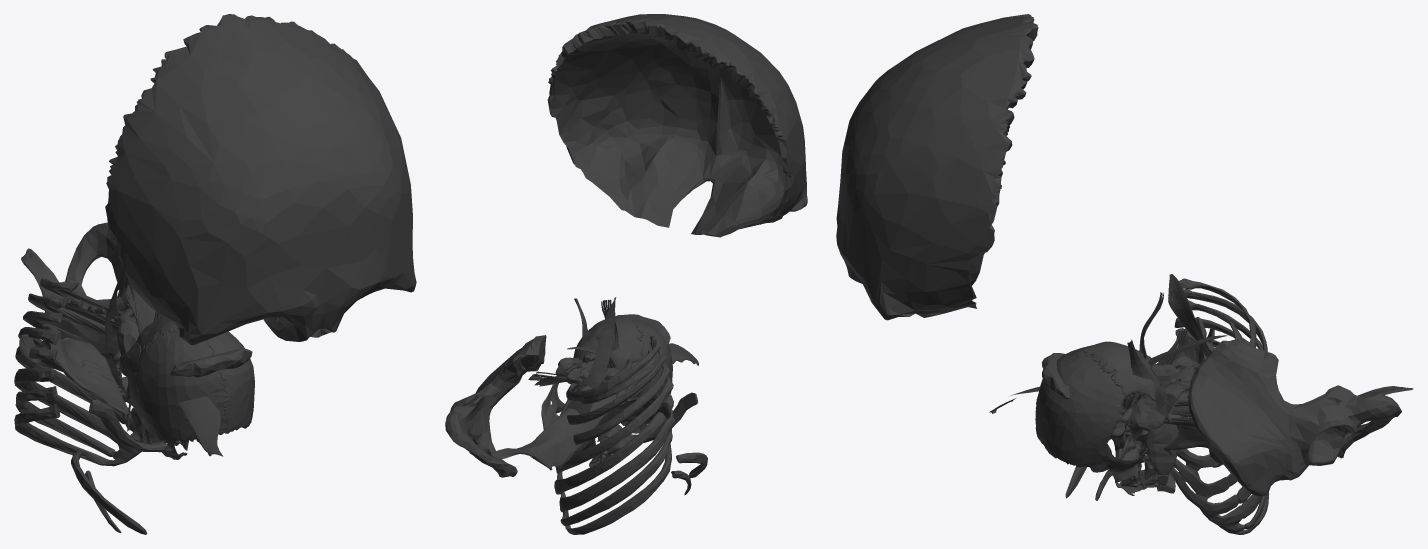
Rendered from sharedassets37.glb.
3 renders of one model, left to right at view 1: azimuth 30°, elevation 25°; view 2: azimuth 150°, elevation 25°; view 3: azimuth 270°, elevation 25°, orthographic. The views are drawn at different scales.
Parts seen in each view (by area): view 1: 0162_Frontal__001097, 0150_Parietal, R__001095, 0008_Scapula, L__000982, 0201_Longissimus thoracis, R__1000650, 0151_Parietal, L__001094, 0017_Eighth rib _08_, R__002280, 0018_Ninth rib _09_, R__002281, 0019_Tenth rib _10_, R__002282, 0012_Manubrium__001162, 0026_Seventh rib _07_, R__002279, 0009_Clavicle, L__000981, 0005_Ischium, R__001010 (+13 smaller); view 2: 0162_Frontal__001097, 0201_Longissimus thoracis, R__1000650, 0007_Ilium, R__001012, 0152_Occipital__001132, 0038_Seventh rib _07_, L__002291, 0204_Splenius cervicis, R__1000678, 0037_Sixth rib _06_, L__002290, 0017_Eighth rib _08_, R__002280, 0018_Ninth rib _09_, R__002281, 0004_Ilium, L__001003, 0019_Tenth rib _10_, R__002282, 0024_Fifth rib _05_, R__002277 (+15 smaller); view 3: 0162_Frontal__001097, 0004_Ilium, L__001003, 0151_Parietal, L__001094, 0007_Ilium, R__001012, 0063_S01-05 Sacrum__001242, 0005_Ischium, R__001010, 0152_Occipital__001132, 0014_Body of sternum__001163, 0200_Sphenoid__001143, 0006_Pubis, R__001011, 0204_Splenius cervicis, R__1000678, 0037_Sixth rib _06_, L__002290 (+6 smaller).
Part boxes in pixels (x1=…): 0162_Frontal__001097: x1=105, y1=14, x2=416, y2=344; 0150_Parietal, R__001095: x1=135, y1=331, x2=226, y2=442; 0008_Scapula, L__000982: x1=19, y1=324, x2=128, y2=414; 0201_Longissimus thoracis, R__1000650: x1=21, y1=248, x2=223, y2=456; 0151_Parietal, L__001094: x1=206, y1=331, x2=254, y2=433; 0017_Eighth rib _08_, R__002280: x1=14, y1=367, x2=141, y2=457; 0018_Ninth rib _09_, R__002281: x1=15, y1=386, x2=133, y2=462; 0019_Tenth rib _10_, R__002282: x1=14, y1=404, x2=125, y2=466; 0012_Manubrium__001162: x1=169, y1=347, x2=252, y2=377; 0026_Seventh rib _07_, R__002279: x1=16, y1=350, x2=134, y2=431; 0009_Clavicle, L__000981: x1=89, y1=399, x2=168, y2=452; 0005_Ischium, R__001010: x1=66, y1=222, x2=114, y2=281; 0162_Frontal__001097: x1=547, y1=14, x2=807, y2=237; 0201_Longissimus thoracis, R__1000650: x1=490, y1=343, x2=698, y2=470; 0007_Ilium, R__001012: x1=474, y1=335, x2=545, y2=421; 0152_Occipital__001132: x1=573, y1=316, x2=643, y2=369; 0038_Seventh rib _07_, L__002291: x1=554, y1=394, x2=673, y2=494; 0204_Splenius cervicis, R__1000678: x1=567, y1=297, x2=616, y2=414; 0037_Sixth rib _06_, L__002290: x1=555, y1=377, x2=672, y2=473; 0017_Eighth rib _08_, R__002280: x1=561, y1=410, x2=675, y2=513; 0018_Ninth rib _09_, R__002281: x1=562, y1=428, x2=672, y2=524; 0004_Ilium, L__001003: x1=467, y1=335, x2=546, y2=434; 0019_Tenth rib _10_, R__002282: x1=565, y1=444, x2=671, y2=534; 0024_Fifth rib _05_, R__002277: x1=573, y1=362, x2=666, y2=444; 0162_Frontal__001097: x1=836, y1=14, x2=1038, y2=320; 0004_Ilium, L__001003: x1=1188, y1=339, x2=1321, y2=496; 0151_Parietal, L__001094: x1=1035, y1=351, x2=1125, y2=472; 0007_Ilium, R__001012: x1=1189, y1=339, x2=1321, y2=496; 0063_S01-05 Sacrum__001242: x1=1120, y1=356, x2=1199, y2=434; 0005_Ischium, R__001010: x1=1312, y1=385, x2=1401, y2=433; 0152_Occipital__001132: x1=1083, y1=341, x2=1159, y2=400; 0014_Body of sternum__001163: x1=1145, y1=364, x2=1177, y2=475; 0200_Sphenoid__001143: x1=1105, y1=421, x2=1151, y2=483; 0006_Pubis, R__001011: x1=1309, y1=422, x2=1370, y2=463; 0204_Splenius cervicis, R__1000678: x1=1168, y1=274, x2=1210, y2=357; 0037_Sixth rib _06_, L__002290: x1=1175, y1=317, x2=1249, y2=498.
Size of the model in its own units: 0.175 by 0.3091 by 0.3138.
Materials: 1 (1 with a texture image).
